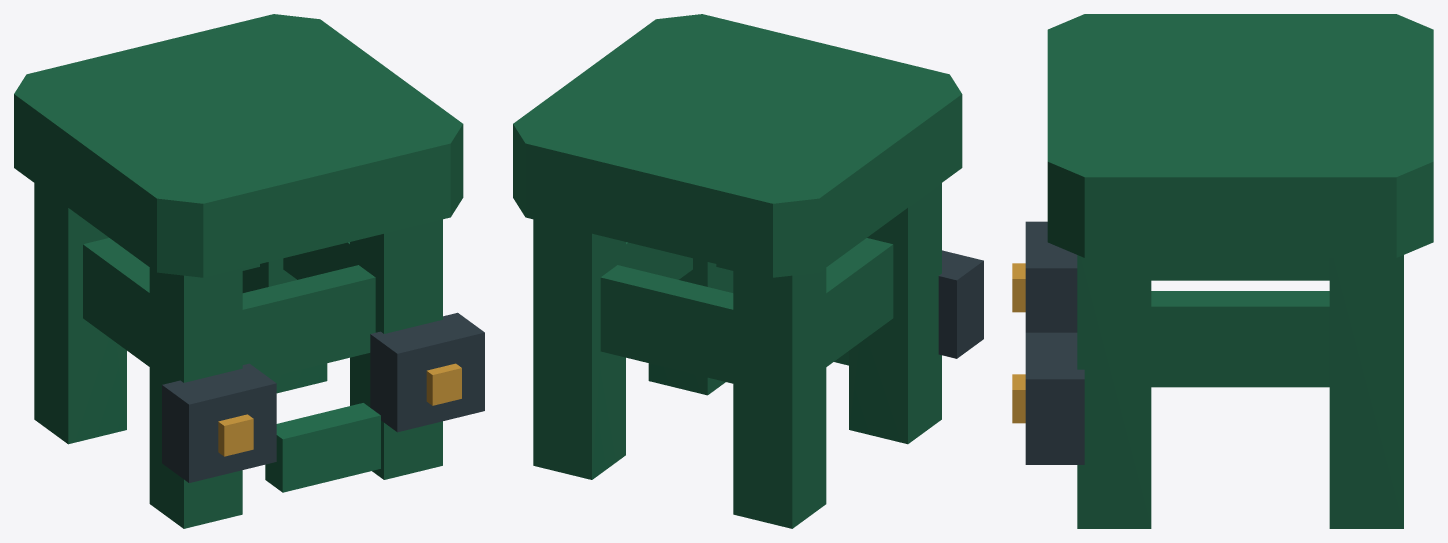
Rendered from market-stool-mint.glb.
3 renders of one model, left to right at view 1: azimuth 30°, elevation 25°; view 2: azimuth 150°, elevation 25°; view 3: azimuth 270°, elevation 25°, orthographic. The views are drawn at different scales.
Visible parts, largest first — view 1: market-stool-mint; view 2: market-stool-mint; view 3: market-stool-mint.
Part boxes in pixels (left/top/right/bottom): market-stool-mint: left=14, top=14, right=484, bottom=528; market-stool-mint: left=513, top=14, right=983, bottom=528; market-stool-mint: left=1012, top=14, right=1433, bottom=528.
Size of the model in its own units: 0.49 by 0.51 by 0.5347.
